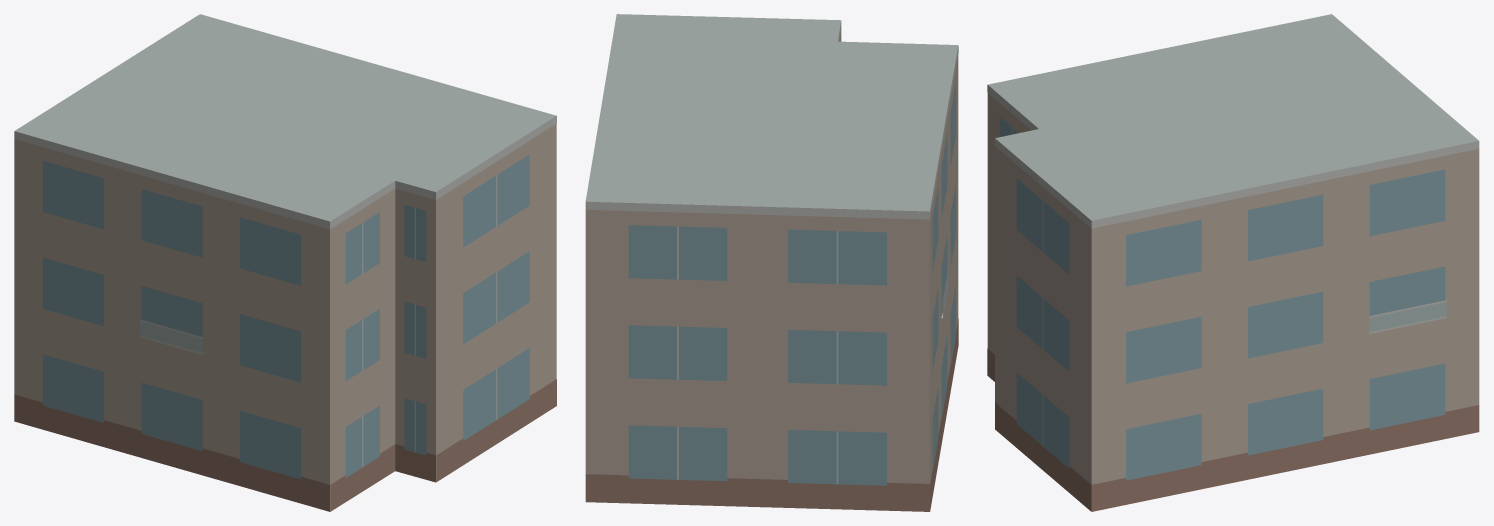
File: survey-upis-32489929.glb
3 views of the same model, side by side, from view 1: azimuth 30°, elevation 25°; view 2: azimuth 150°, elevation 25°; view 3: azimuth 270°, elevation 25° (orthographic). The views are drawn at different scales.
Parts seen in each view (by area): view 1: survey-upis-32489929.tmp; view 2: survey-upis-32489929.tmp; view 3: survey-upis-32489929.tmp.
Part boxes in pixels (x1,y1,x2,y2): survey-upis-32489929.tmp: (14, 14, 556, 511); survey-upis-32489929.tmp: (585, 14, 958, 511); survey-upis-32489929.tmp: (987, 14, 1479, 511).
Size of the model in its own units: 13.87 by 9.1 by 13.94.
